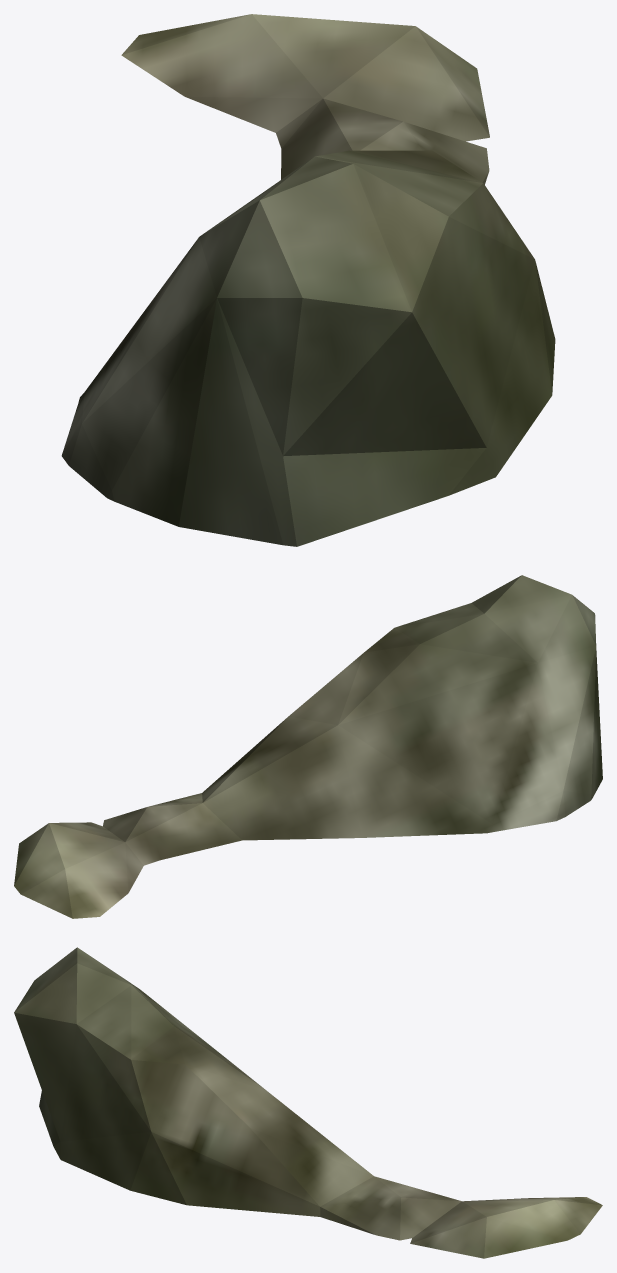
The picture shows the model from 3 angles, top to bottom: view 1: azimuth 30°, elevation 25°; view 2: azimuth 150°, elevation 25°; view 3: azimuth 270°, elevation 25°; orthographic projection. The views are drawn at different scales.
Size of the model in its own units: 0.5939 by 0.2626 by 0.8441.
1 material, 1 textured.
